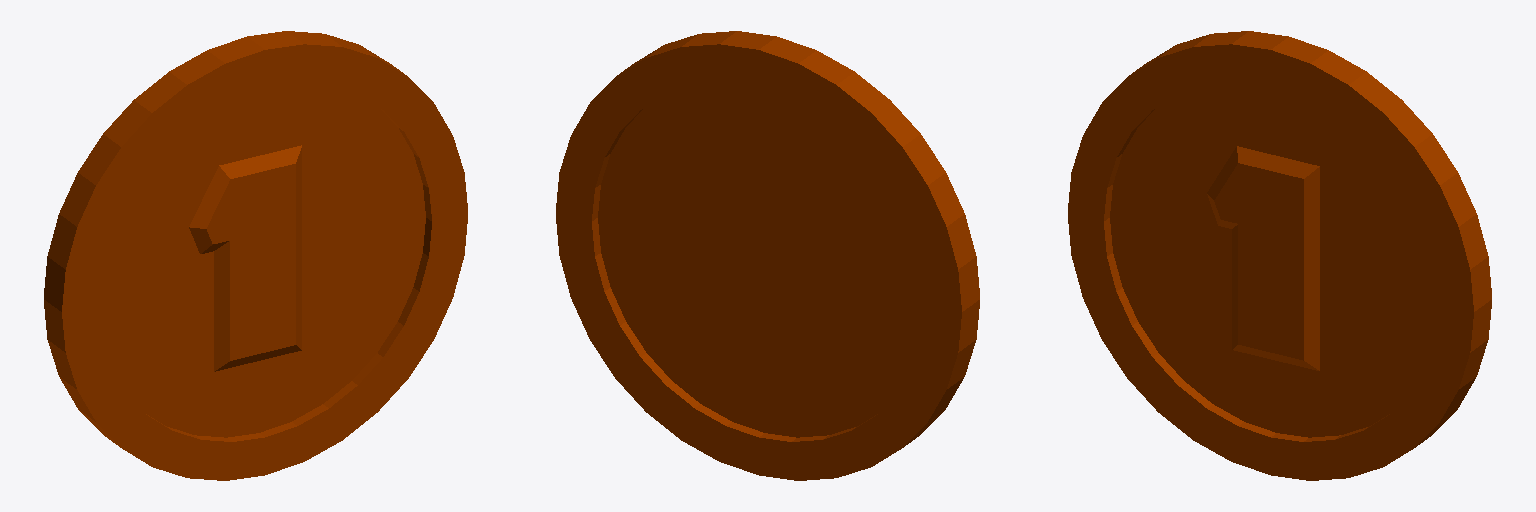
Rendered from coin.obj.
3 renders of one model, left to right at view 1: azimuth 30°, elevation 25°; view 2: azimuth 150°, elevation 25°; view 3: azimuth 330°, elevation 25°, orthographic.
Parts seen in each view (by area): view 1: coin.001_Circle.001; view 2: coin.001_Circle.001; view 3: coin.001_Circle.001.
Boxes of the visible parts, x1=… form: coin.001_Circle.001: x1=44, y1=31, x2=467, y2=480; coin.001_Circle.001: x1=556, y1=31, x2=979, y2=480; coin.001_Circle.001: x1=1068, y1=31, x2=1491, y2=480.
Size of the model in its own units: 1 by 1 by 0.078.